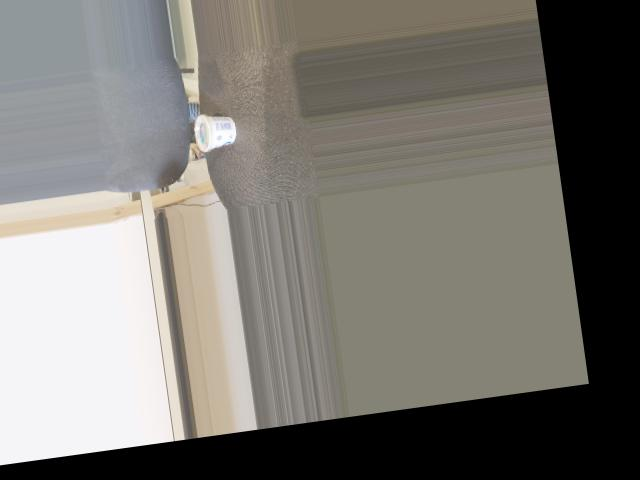cotage: (191, 110, 242, 152)
